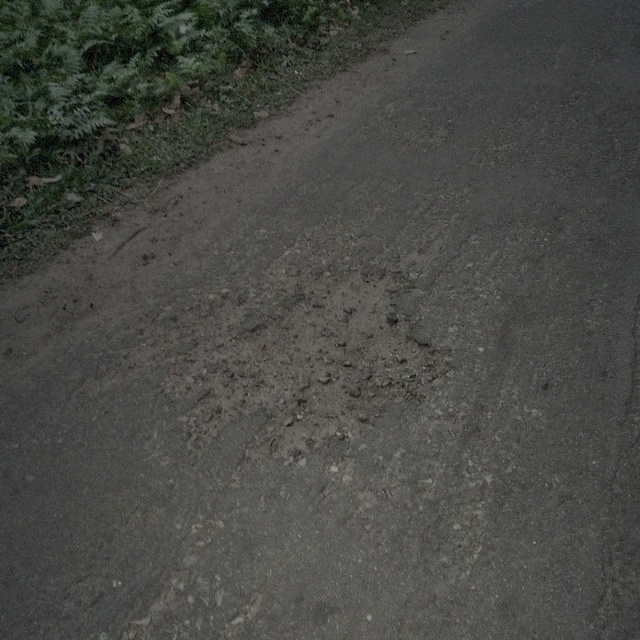pothole: (217, 262, 442, 449)
